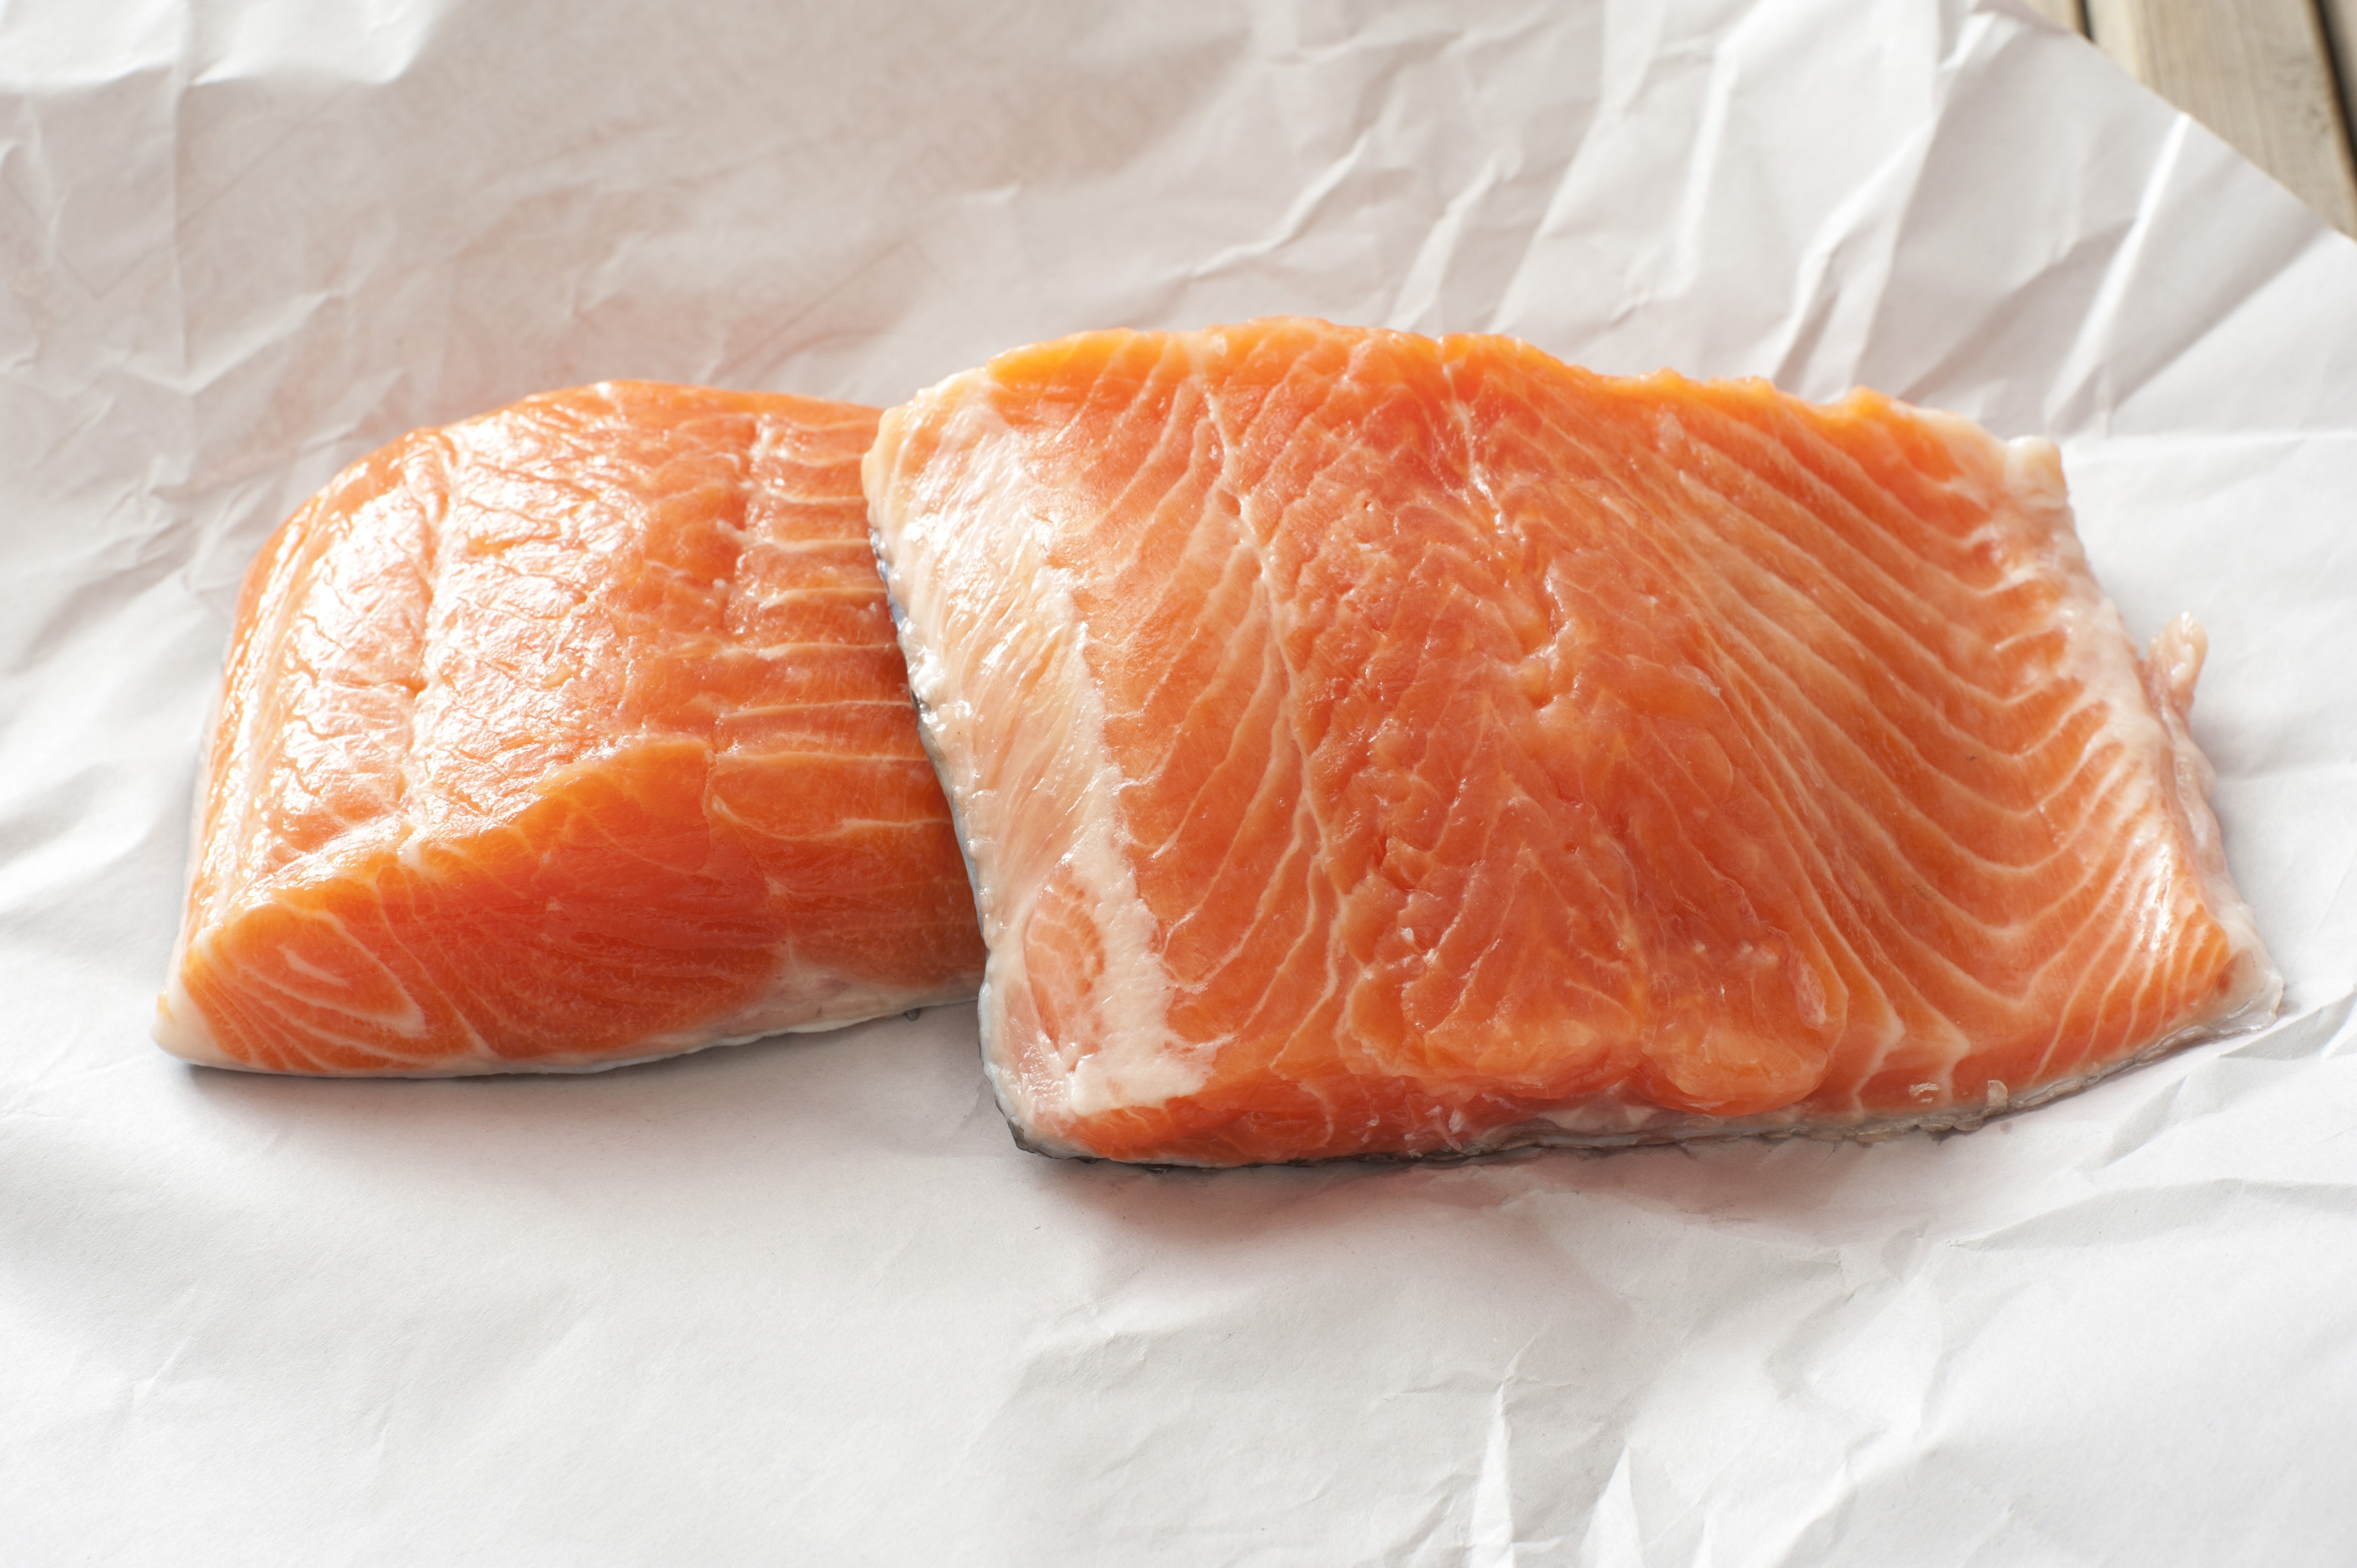Tuna: (838, 315, 2292, 1195), (161, 366, 1066, 1102)
